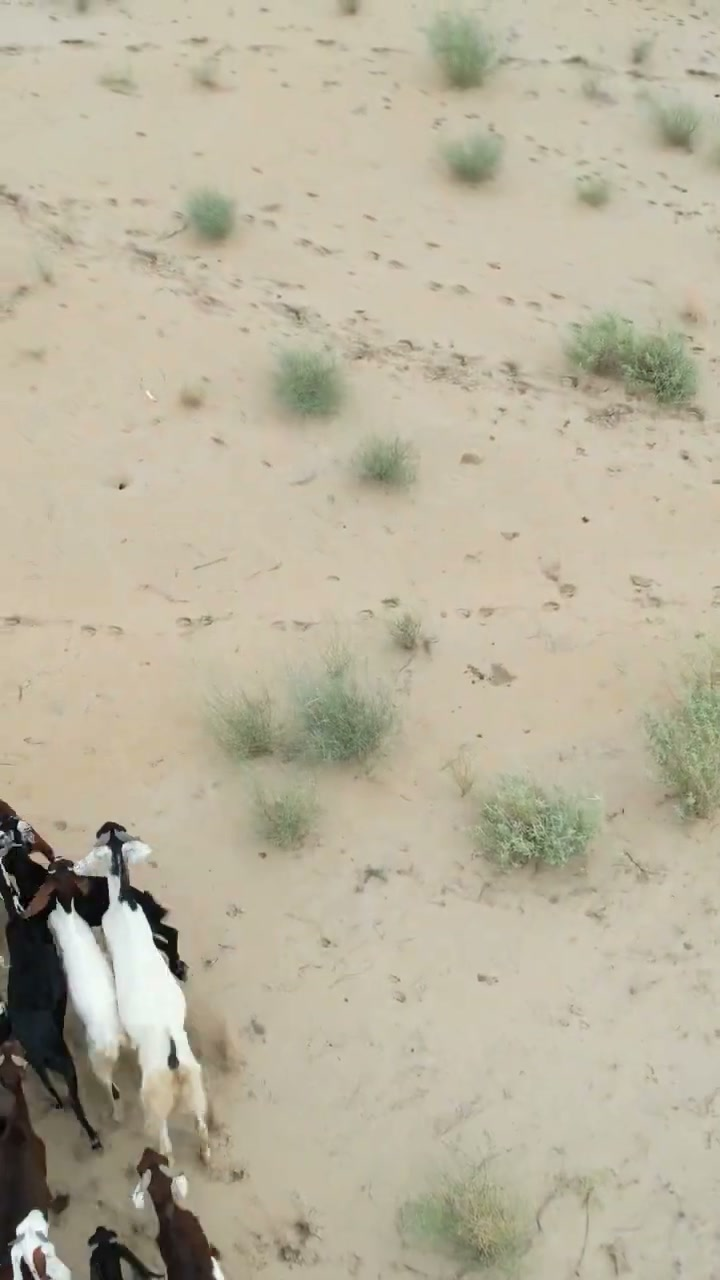animal_foot_print: (82, 1070, 294, 1268)
